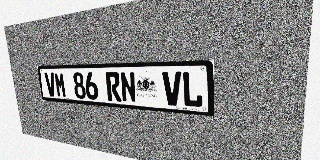6: (84, 72, 99, 100)
8: (72, 72, 86, 99)
L: (182, 71, 203, 108)
M: (54, 72, 67, 98)
N: (120, 72, 137, 103)
R: (105, 72, 121, 102)
V: (162, 71, 182, 106), (44, 72, 57, 97)
